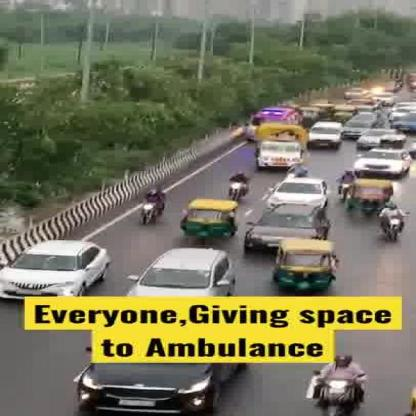priority: (246, 106, 298, 124)
